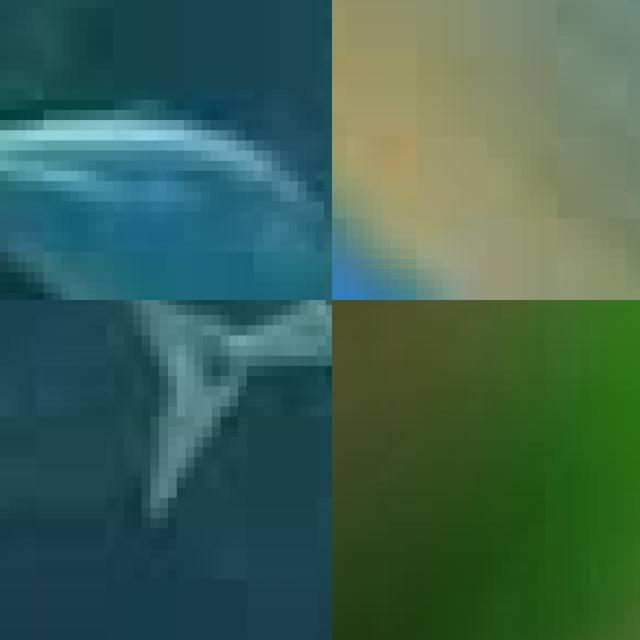fish: (0, 0, 332, 300), (379, 431, 640, 640)
